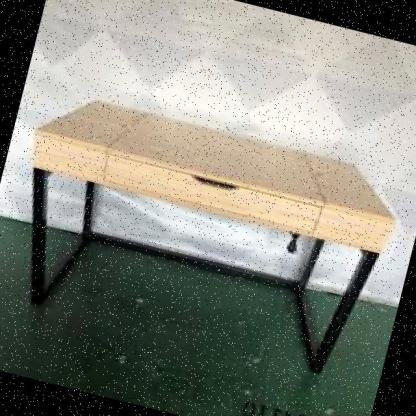Table: (0, 80, 413, 402)
